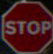Stop: (2, 4, 51, 46)
